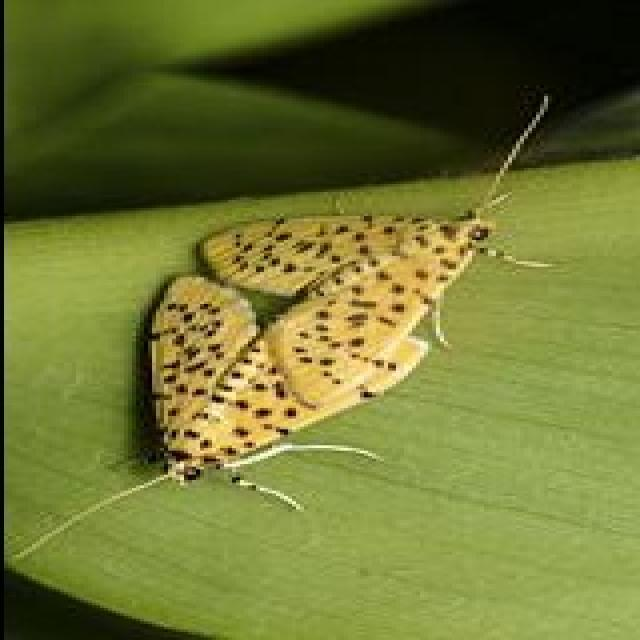peach borer: (135, 200, 523, 501)
